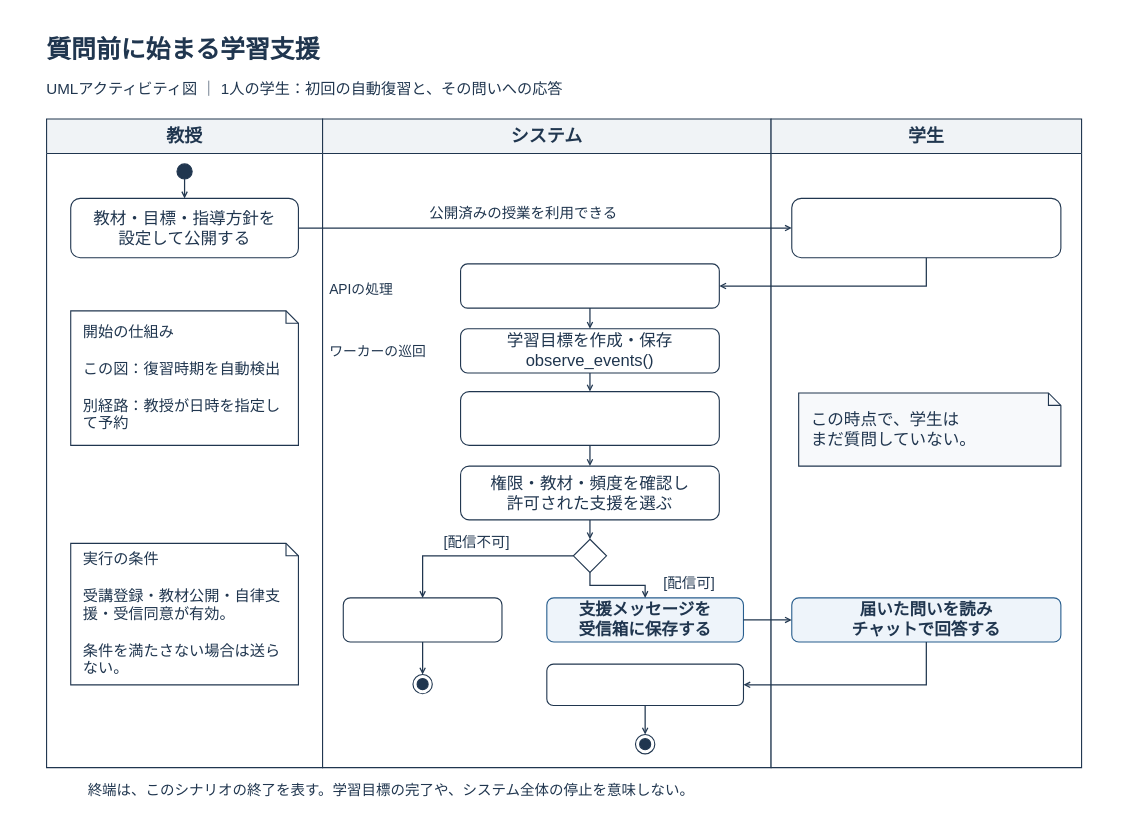
Some shapes in this 1127 by 824 pixel diagram are drawn without their labels. The shapes that lost their labels are listed below. From the top down, each one's centre as x and y in pixels, then its label:
(x=926, y=227): 授業を開き 受信を許可する
(x=590, y=285): 学生の会話を作成・保存 create_conversation()
(x=590, y=418): 復習時期を検出する 目標作成から24時間以降
(x=422, y=619): 今回は 配信しない
(x=645, y=684): 対話と評価可能な 回答を記録する
